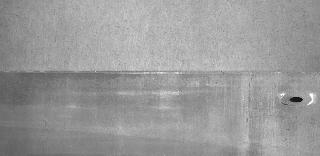punching hole: (288, 96, 304, 104)
welding line: (3, 68, 319, 78)
